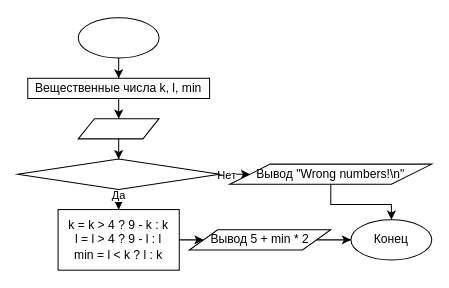
The diagram is 449 pixels wide and 288 high, and some of its shapes have lost their labels. The shapes that lost their labels are listed below. From the top down, each one's centre as x and y in pixels, then its label:
At (x=118, y=37): "Начало".
At (x=118, y=128): "Ввод k, l".
At (x=118, y=173): "k > 8 || l > 8 || k * l == 0".
